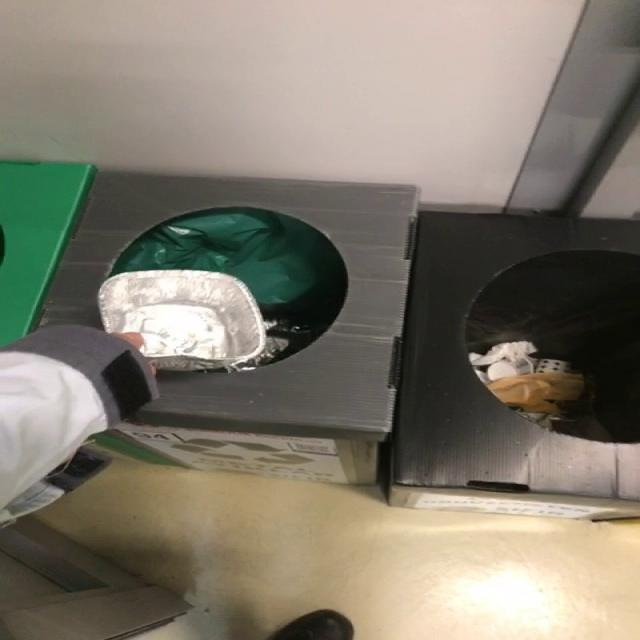bin: (40, 171, 640, 520)
metal: (97, 270, 265, 364)
